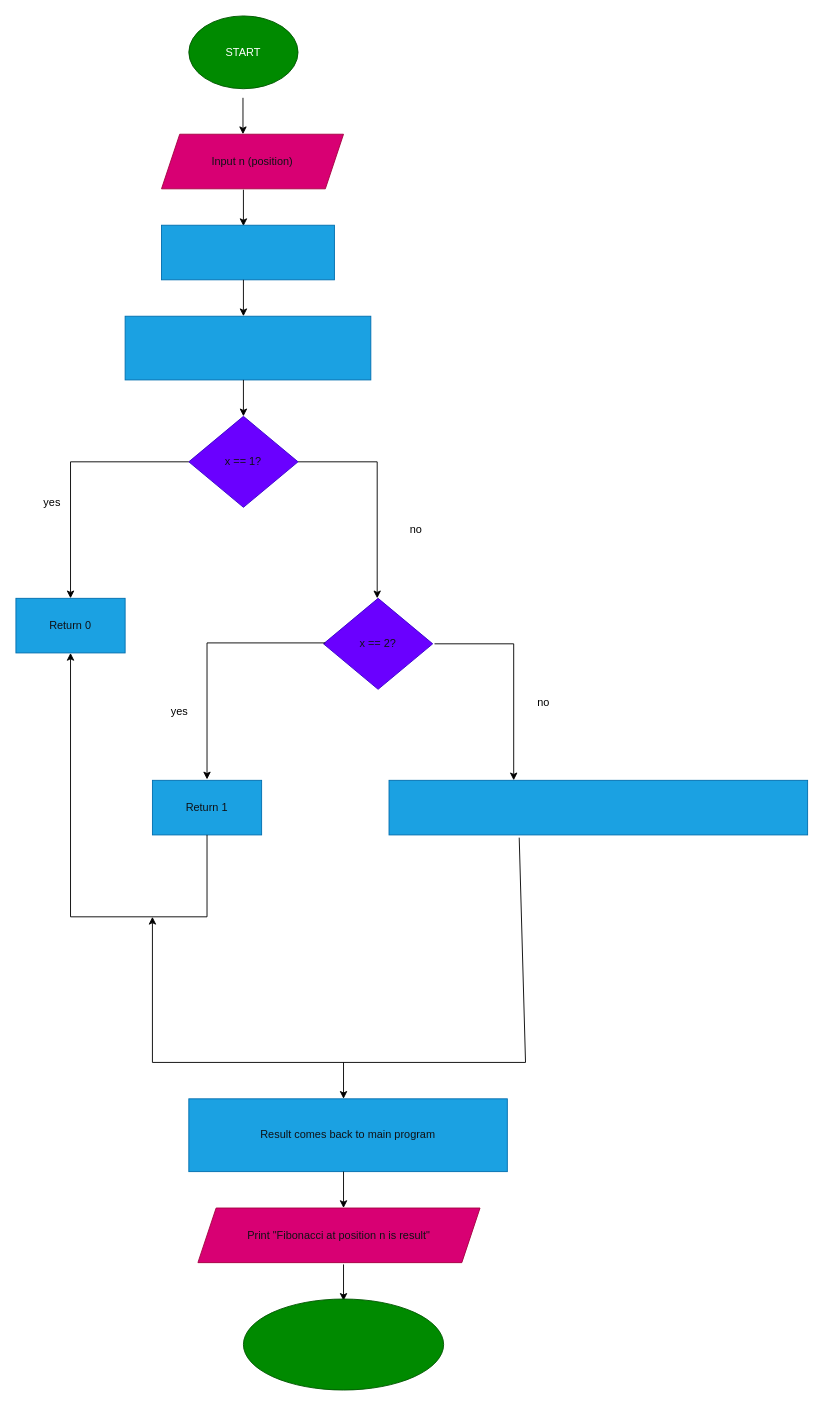
Some shapes in this 824 by 1406 pixel diagram are drawn without their labels. The shapes that lost their labels are listed below. From the top down, each one's centre as x and y in pixels, then its label:
[247,252]: Call fibonacci_recursive(n)
[247,347]: FUNCTION fibonacci_recursive(x)
[598,807]: Return fibonacci_recursive(x-1) + fibonacci_recursive(x-2)
[343,1344]: END
